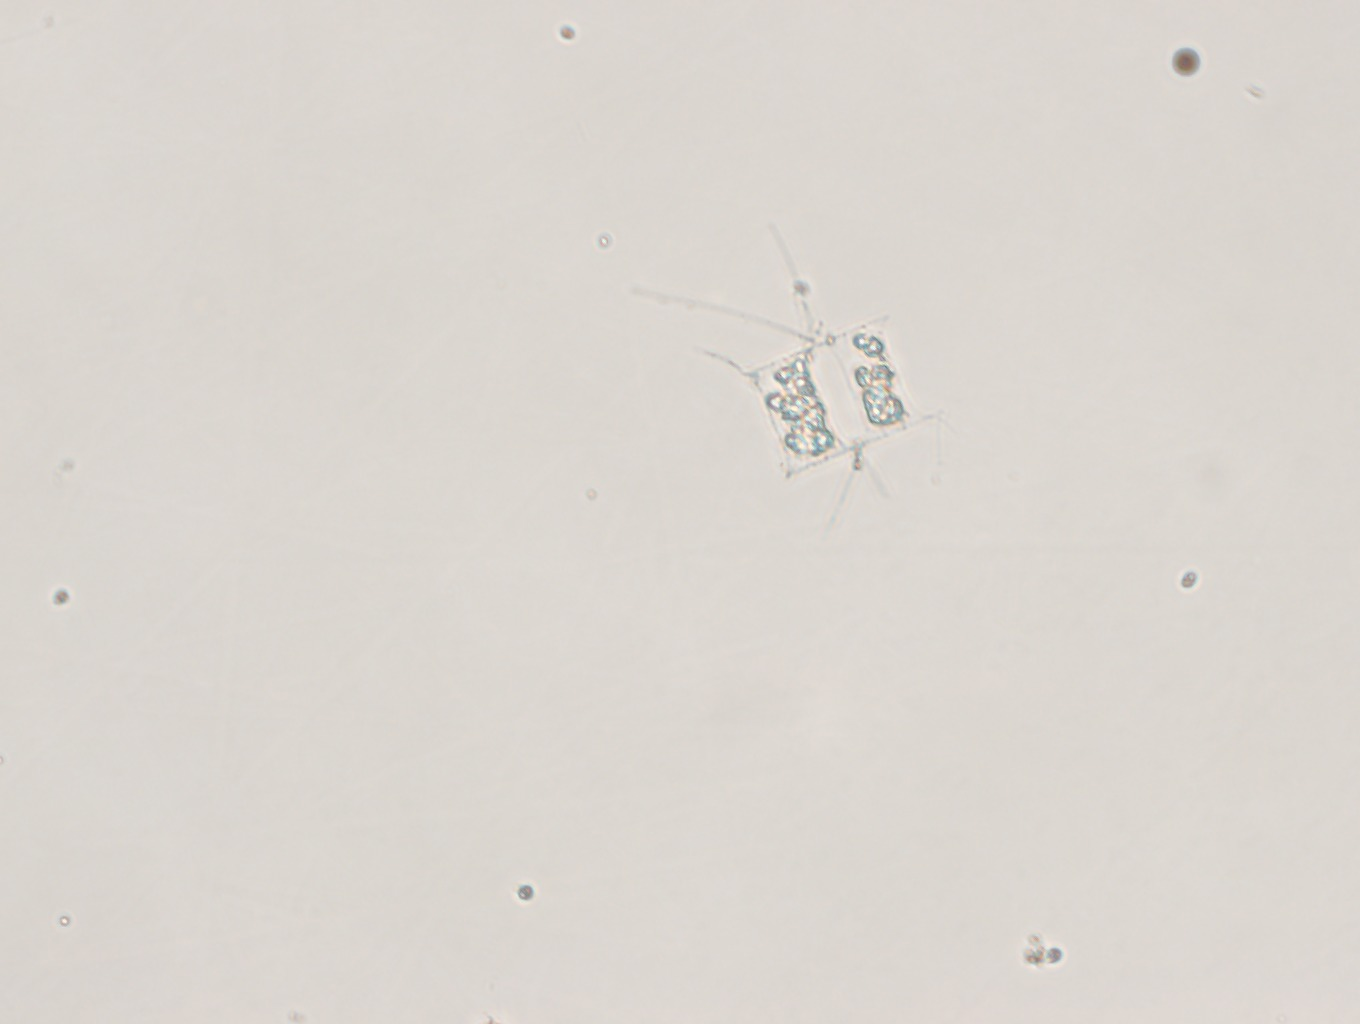chaetoceros: (630, 217, 968, 563)
